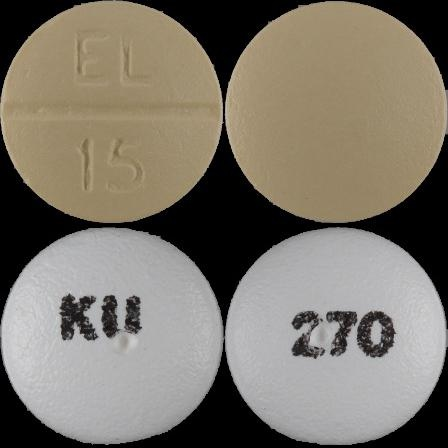42291-632: (0, 0, 224, 224)
